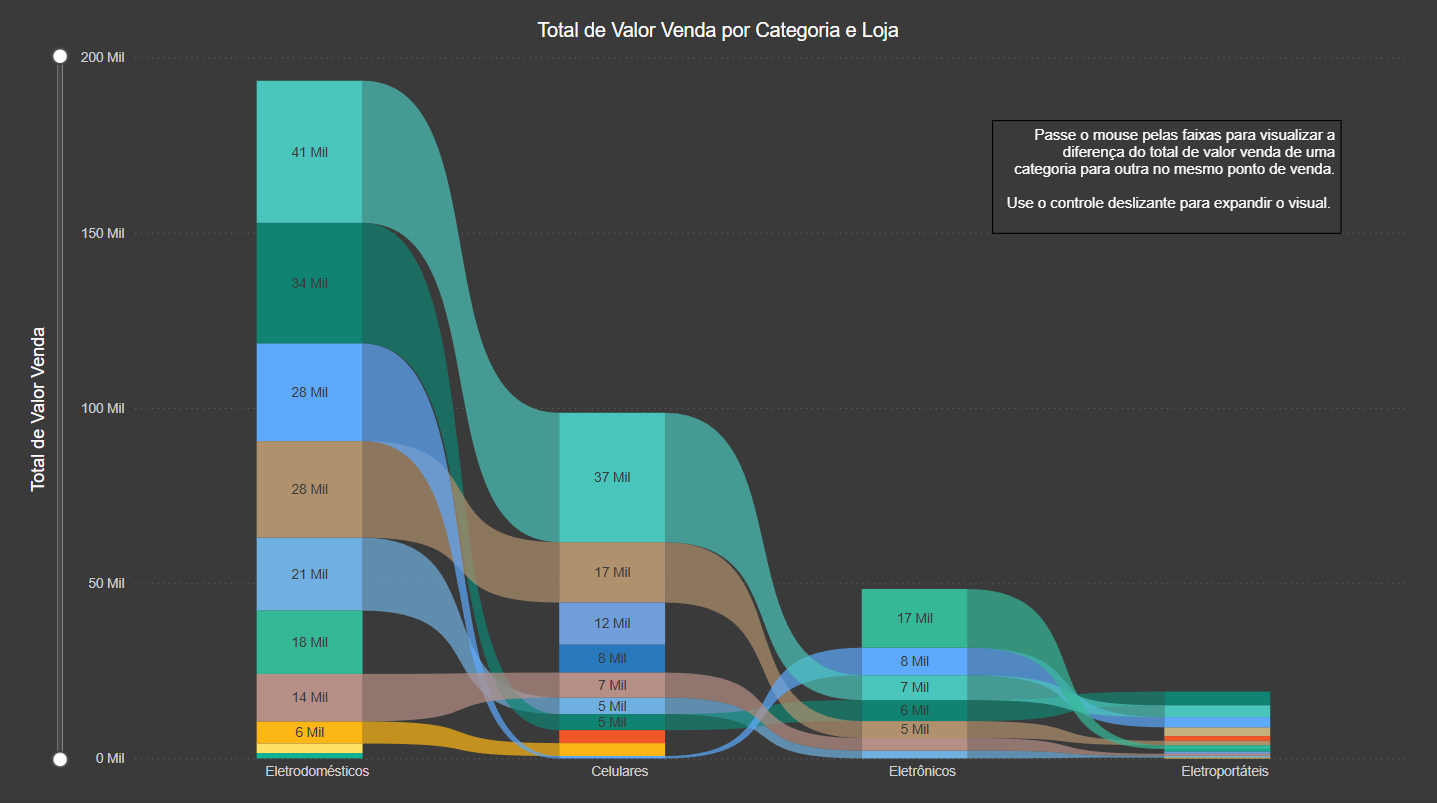

The dashboard page shown, as its layout file describes it:
{"tool":"powerbi","page":{"name":"Faixas de Vendas por Categoria e Pontos de Venda","canvas":[1280,720],"ordinal":3},"visuals":[{"type":"ribbonChart","fields":{"Series":["Vendas.Loja"],"Category":["Vendas.Categoria"],"Y":["Sum(Vendas.ValorVenda)"]},"box":[27.5,20.4,1230.7,683.6],"z":0},{"type":"textbox","box":[885.8,110,310.3,101.1],"z":1}]}

Visuals, with their boxes in screenshot pixels (x1, y1, x2, y2), scaled from the page's 1280x720 canvas onto the 1437x803 screenshot:
ribbonChart - Vendas.Loja x Vendas.Categoria: <region>31, 23, 1413, 785</region>
textbox: <region>994, 123, 1343, 235</region>
